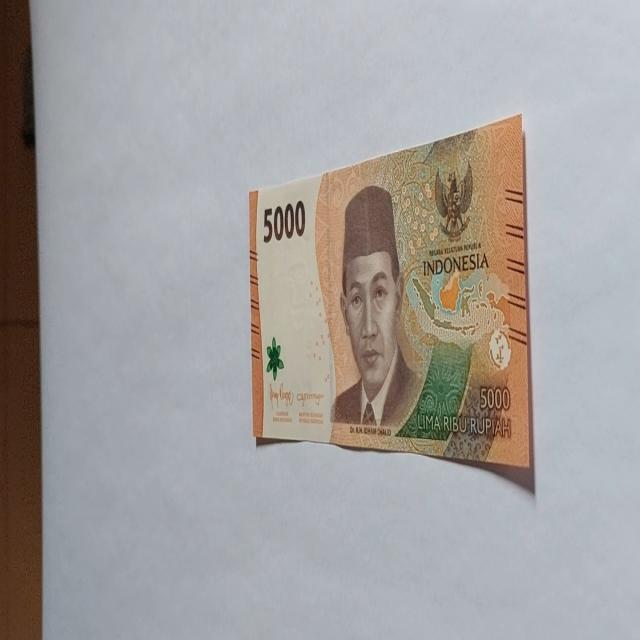lima ribu rupiah: (248, 113, 534, 489), (330, 183, 422, 430)
